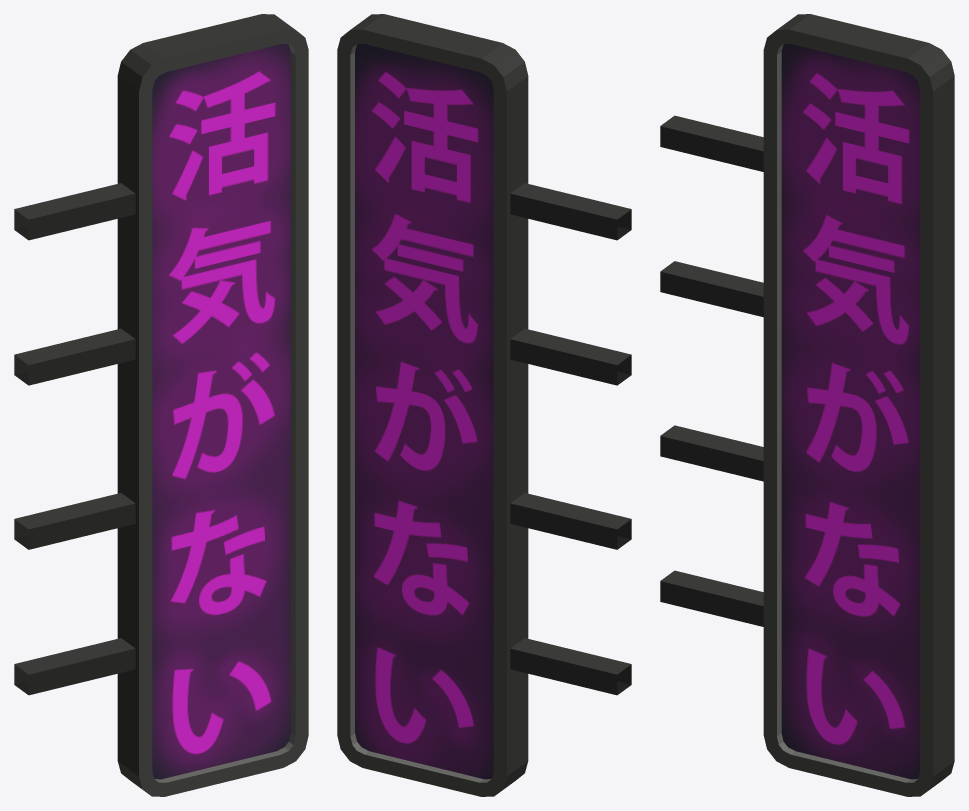
Rendered from prop.signbig1.fbx.
The picture shows the model from 3 angles, left to right: view 1: azimuth 30°, elevation 25°; view 2: azimuth 150°, elevation 25°; view 3: azimuth 330°, elevation 25°; orthographic projection.
Parts seen in each view (by area): view 1: sign_big; view 2: sign_big; view 3: sign_big.
Boxes of the visible parts, x1,y1,x2,y2 form: sign_big: (14, 14, 308, 796); sign_big: (337, 14, 631, 796); sign_big: (660, 14, 954, 796).
Bounding box in the file's own units: 326 × 832 × 43.83.
